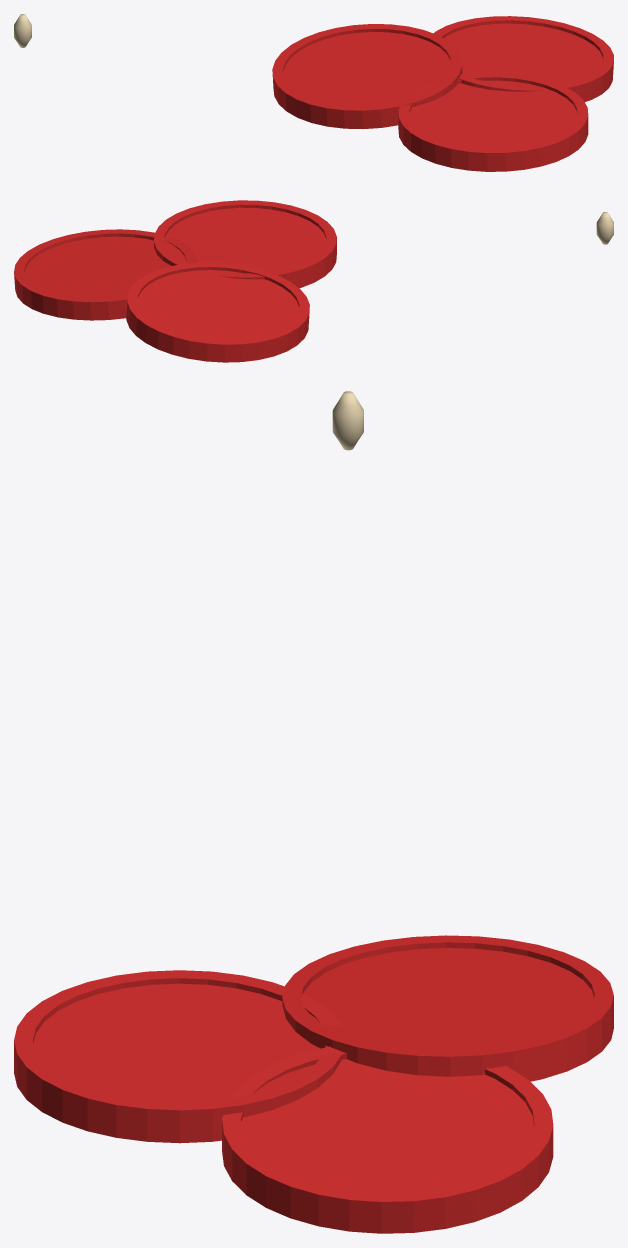
Rendered from tomates.glb.
3 renders of one model, top to bottom at view 1: azimuth 30°, elevation 25°; view 2: azimuth 150°, elevation 25°; view 3: azimuth 270°, elevation 25°, orthographic. The views are drawn at different scales.
Visible parts, largest first — view 1: Tomate_01, Tomate_03, Tomate_02, SEMILLA; view 2: Tomate_01, Tomate_03, Tomate_02, SEMILLA; view 3: Tomate_02, Tomate_03, Tomate_01, SEMILLA.
Boxes of the visible parts, x1=… form: Tomate_01: x1=272, y1=24, x2=462, y2=129; Tomate_03: x1=398, y1=73, x2=588, y2=171; Tomate_02: x1=433, y1=16, x2=613, y2=101; SEMILLA: x1=14, y1=14, x2=31, y2=47; Tomate_01: x1=126, y1=262, x2=309, y2=362; Tomate_03: x1=154, y1=200, x2=336, y2=288; Tomate_02: x1=14, y1=229, x2=196, y2=320; SEMILLA: x1=596, y1=212, x2=613, y2=244; Tomate_02: x1=222, y1=1046, x2=553, y2=1233; Tomate_03: x1=14, y1=970, x2=342, y2=1143; Tomate_01: x1=282, y1=935, x2=613, y2=1081; SEMILLA: x1=332, y1=391, x2=363, y2=450.
Bounding box in the file's own units: 11.54 × 3.6 × 5.76.
